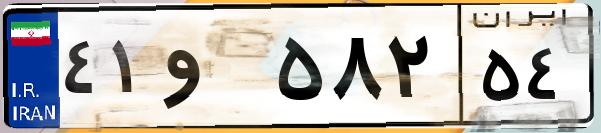1: (110, 28, 158, 98)
2: (385, 28, 445, 110)
4: (57, 26, 110, 100), (525, 38, 570, 115)
5: (270, 28, 330, 110), (475, 38, 525, 113)
8: (330, 28, 385, 110)
و: (158, 20, 270, 120)
